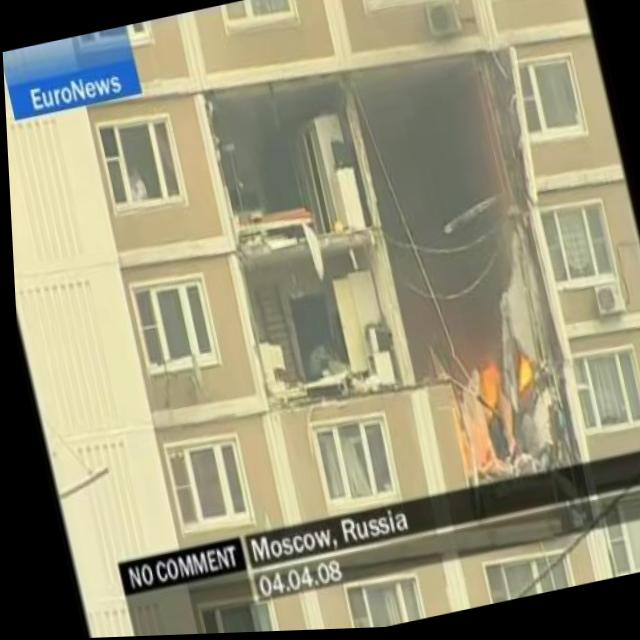fire: (462, 354, 509, 432), (509, 354, 539, 406)
